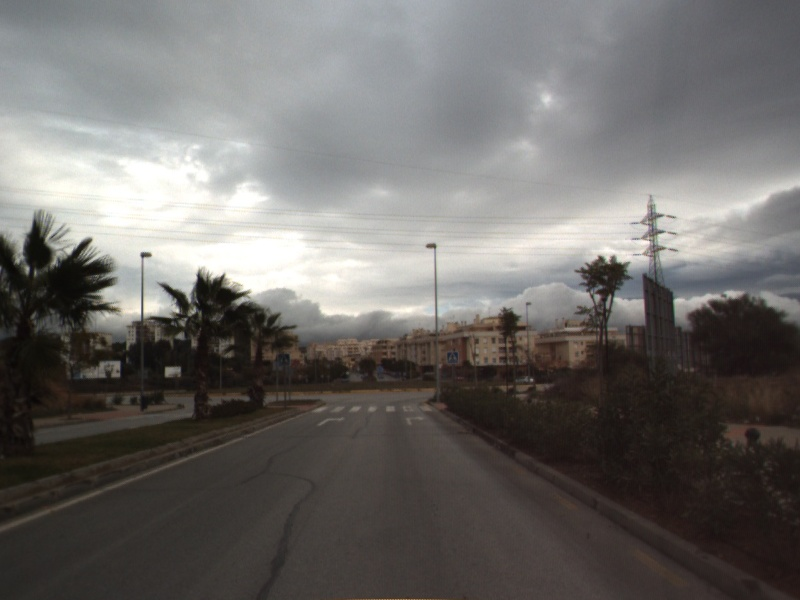RIGHT: (315, 414, 348, 428), (404, 414, 427, 427)
